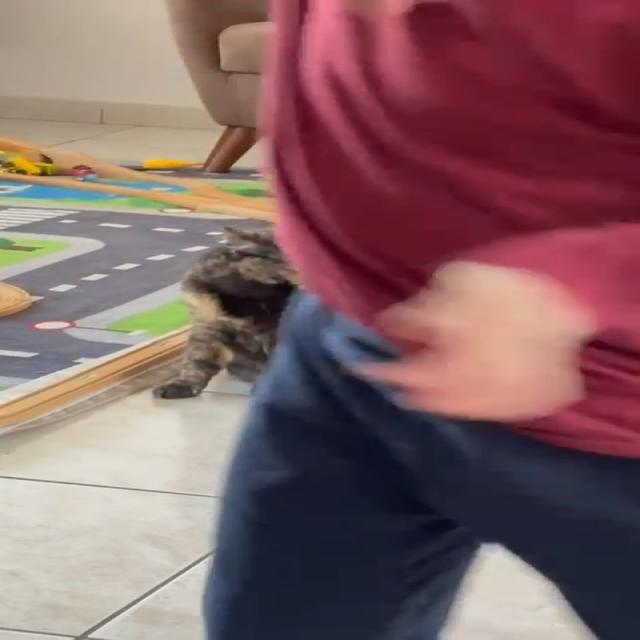authorized: (151, 225, 301, 399)
